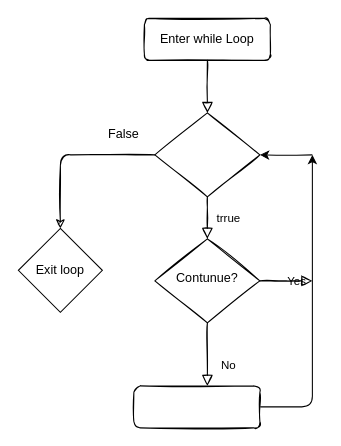
Some shapes in this 341 by 446 pixel diagram are drawn without their labels. Each missing label, with the box of its shape:
Execute statement: (133, 385, 260, 428)
Test condition: (154, 112, 260, 197)
